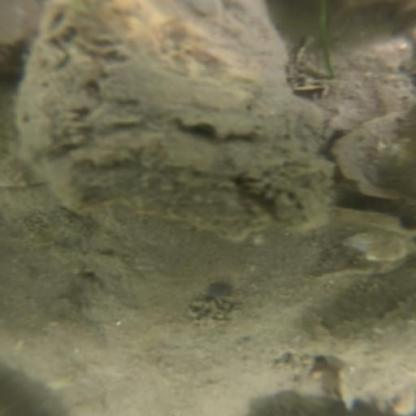Oyster-Closed: (14, 0, 344, 238), (330, 99, 416, 202)
